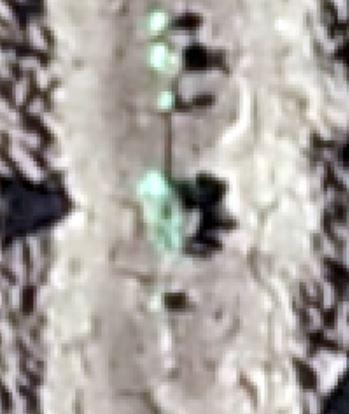cotton: (139, 170, 180, 205), (150, 200, 177, 239), (152, 45, 177, 71), (148, 8, 172, 32), (160, 89, 173, 111)
